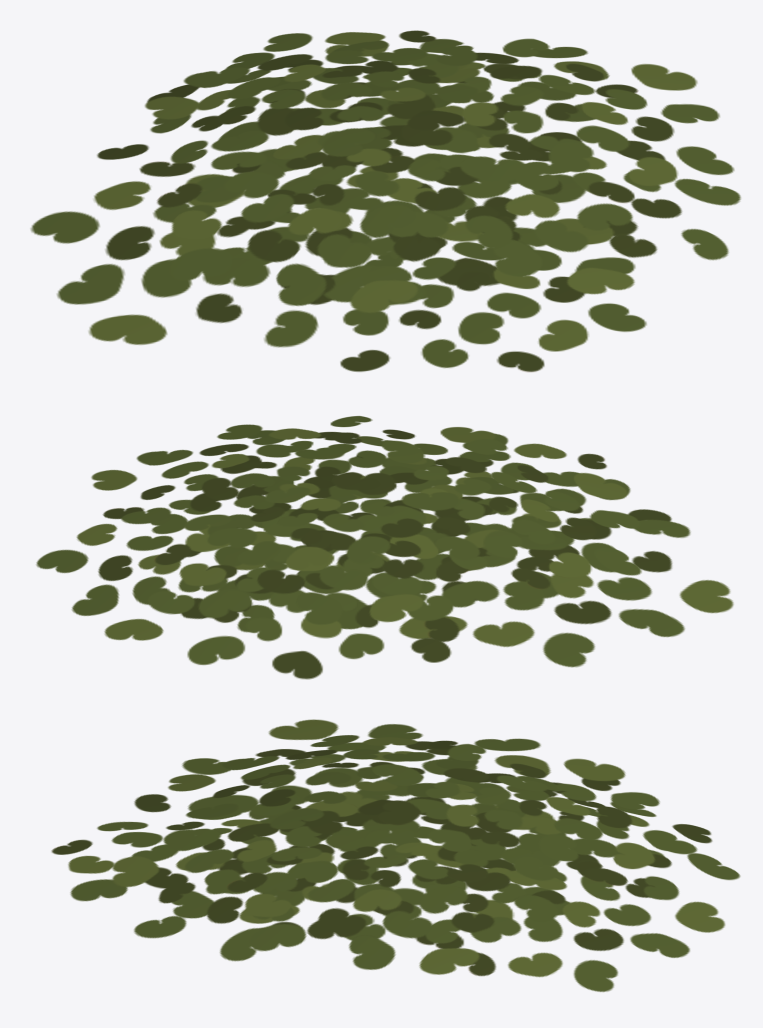
The model's file is Asarabacca_2.glb.
The picture shows the model from 3 angles, top to bottom: view 1: azimuth 30°, elevation 25°; view 2: azimuth 150°, elevation 25°; view 3: azimuth 270°, elevation 25°; orthographic projection. The views are drawn at different scales.
Visible parts, largest first — view 1: Asarabacca_2; view 2: Asarabacca_2; view 3: Asarabacca_2.
Boxes of the visible parts, x1,y1,x2,y2 form: Asarabacca_2: [30, 30, 740, 371]; Asarabacca_2: [36, 416, 733, 679]; Asarabacca_2: [51, 719, 740, 991].
Bounding box in the file's own units: 1.38 × 0.1724 × 1.37.
Materials: 1 (1 with a texture image).
